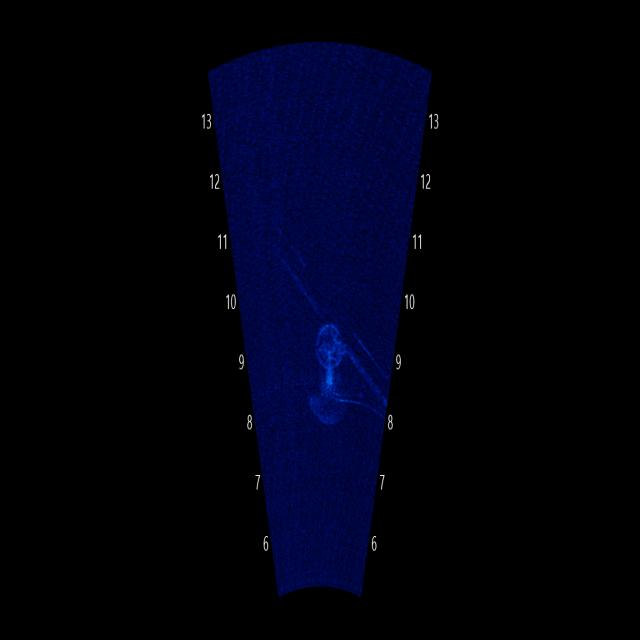circle: (305, 297, 355, 383)
